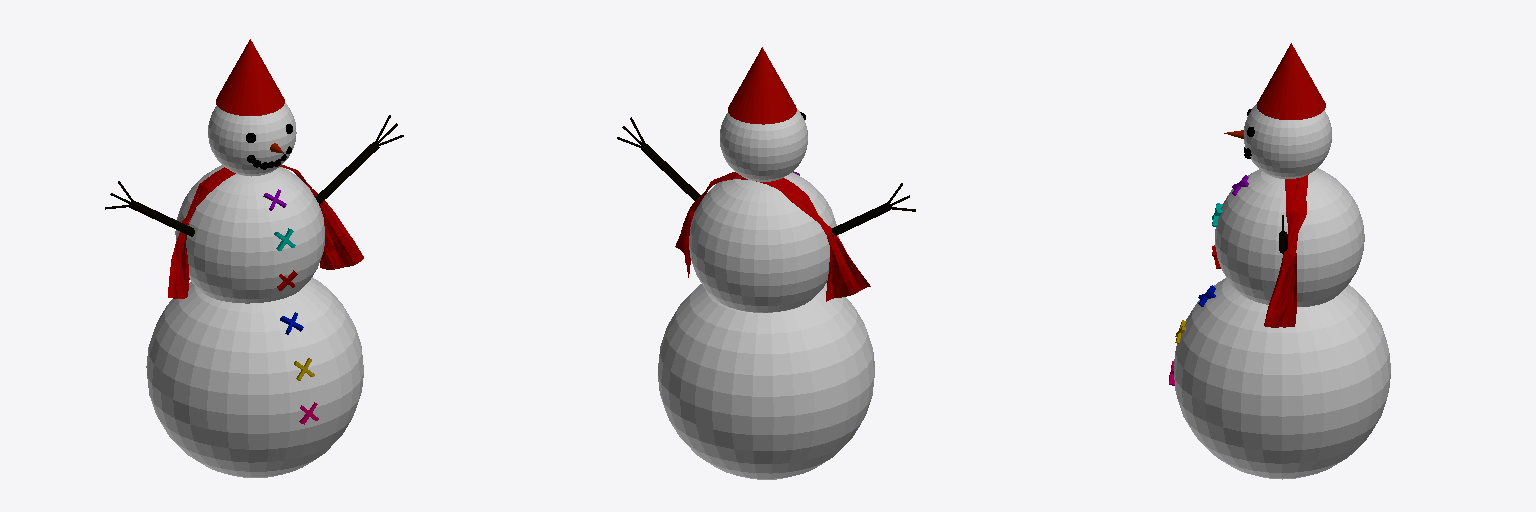
The model's file is snowman.obj.
3 views of the same model, side by side, from view 1: azimuth 30°, elevation 25°; view 2: azimuth 150°, elevation 25°; view 3: azimuth 270°, elevation 25° (orthographic).
Visible parts, largest first — view 1: Sphere, Sphere.012_Sphere.017, Sphere.002, Plane, Cone, Cylinder.004, Cylinder.003; view 2: Sphere, Sphere.012_Sphere.017, Sphere.002, Plane, Cone, Cylinder.004, Cylinder.003; view 3: Sphere, Sphere.012_Sphere.017, Sphere.002, Cone, Plane.
Boxes of the visible parts, x1,y1,x2,y2 form: Sphere: [146, 277, 363, 477]; Sphere.012_Sphere.017: [175, 165, 324, 303]; Sphere.002: [208, 103, 296, 176]; Plane: [168, 165, 363, 298]; Cone: [216, 39, 284, 115]; Cylinder.004: [315, 142, 379, 204]; Cylinder.003: [129, 201, 194, 236]; Sphere: [658, 283, 874, 479]; Sphere.012_Sphere.017: [689, 172, 838, 312]; Sphere.002: [720, 109, 807, 181]; Plane: [675, 172, 870, 301]; Cone: [728, 47, 796, 124]; Cylinder.004: [641, 144, 700, 202]; Cylinder.003: [831, 202, 891, 236]; Sphere: [1174, 278, 1390, 479]; Sphere.012_Sphere.017: [1215, 168, 1364, 306]; Sphere.002: [1244, 104, 1331, 178]; Cone: [1257, 43, 1325, 119]; Plane: [1264, 174, 1308, 327].
Size of the model in its own units: 6.77 by 9.24 by 4.37.